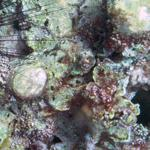dead: (15, 7, 147, 148)
